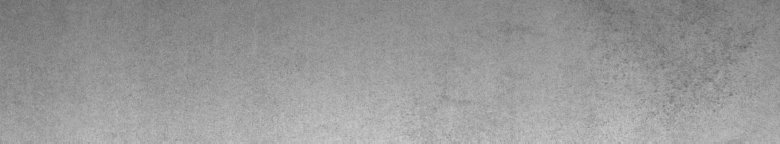ib: (616, 17, 750, 120)
